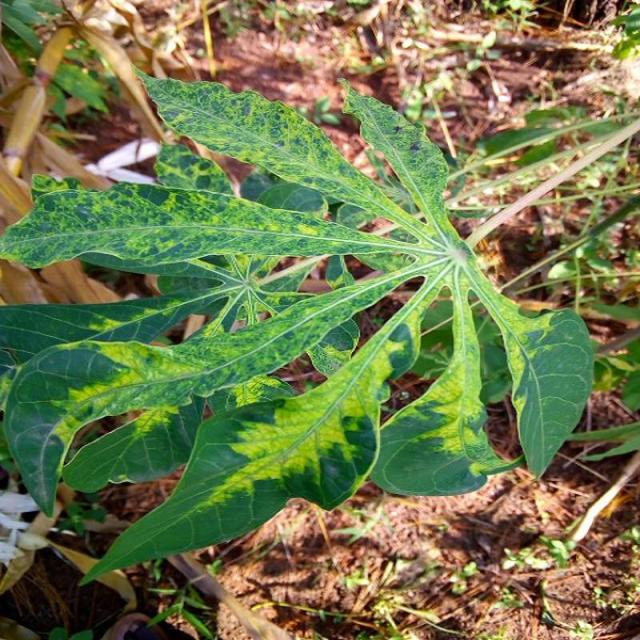cassava leaf: (1, 64, 606, 589)
